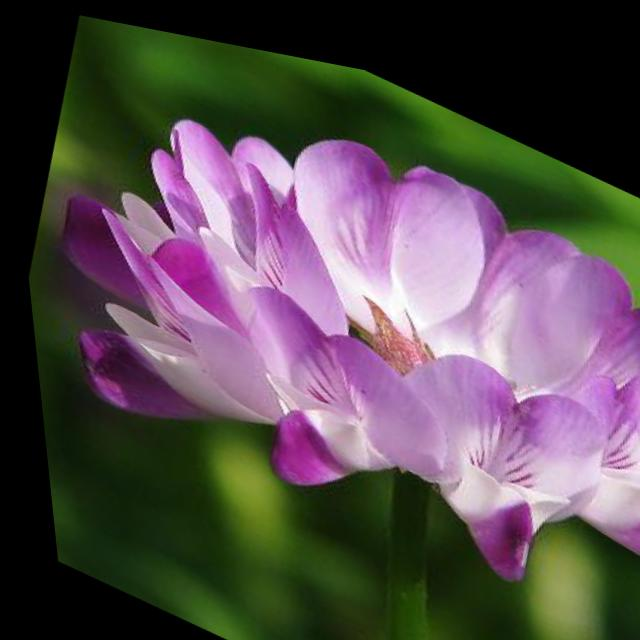Flower: (19, 3, 640, 596)
